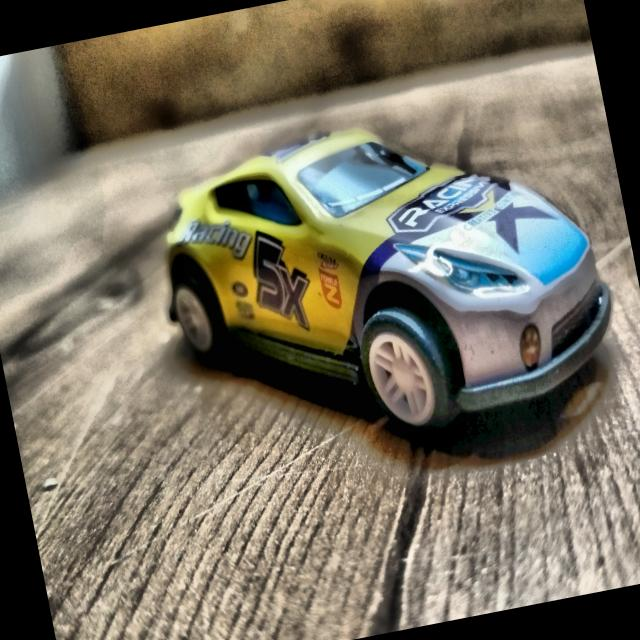Car: (142, 89, 628, 472)
